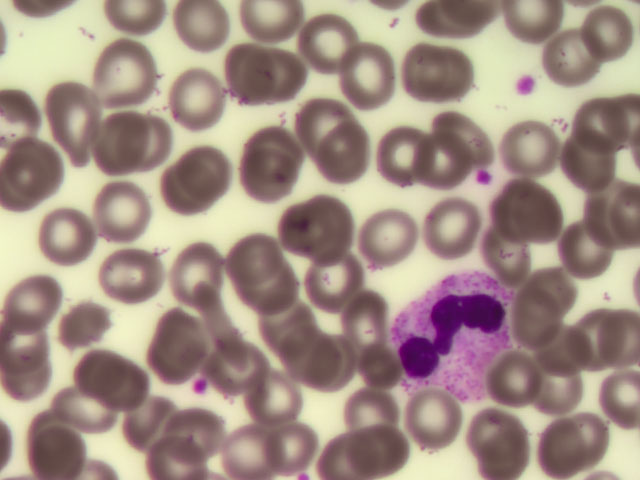Platelets: (515, 71, 535, 101), (191, 378, 210, 399), (476, 169, 493, 185)
RBC: (44, 81, 107, 157), (89, 34, 152, 110), (169, 63, 232, 139), (90, 108, 153, 184), (129, 108, 192, 184), (87, 171, 150, 247), (41, 200, 104, 276), (97, 235, 160, 311), (44, 284, 107, 360), (5, 260, 68, 336), (1, 318, 64, 394), (63, 340, 129, 401), (108, 361, 174, 422), (51, 382, 117, 443), (28, 419, 94, 480), (119, 389, 185, 450), (164, 400, 230, 461), (141, 419, 207, 480), (216, 419, 282, 480), (256, 415, 322, 476), (245, 362, 311, 423), (216, 338, 282, 399), (144, 308, 210, 369), (164, 240, 230, 301), (223, 238, 289, 299), (238, 254, 304, 315), (255, 295, 321, 356), (280, 318, 346, 379), (329, 281, 395, 342), (299, 244, 365, 305), (288, 198, 354, 259), (150, 167, 216, 228), (168, 143, 234, 204), (232, 151, 298, 212), (254, 114, 320, 175), (301, 92, 367, 153), (326, 134, 392, 195), (212, 41, 278, 102), (245, 45, 311, 106), (176, 1, 242, 62), (287, 15, 353, 76), (341, 49, 407, 110), (371, 37, 437, 98), (433, 48, 499, 109), (442, 99, 508, 160), (419, 133, 485, 194), (375, 124, 441, 185), (357, 210, 423, 271), (426, 206, 492, 267), (472, 219, 538, 280), (491, 177, 557, 238), (500, 114, 566, 175), (555, 129, 621, 190), (566, 93, 632, 154), (574, 184, 640, 245), (549, 223, 615, 284), (528, 257, 594, 318), (507, 294, 573, 355), (532, 315, 598, 376), (488, 350, 554, 411), (515, 353, 581, 414), (538, 419, 604, 480), (478, 419, 544, 480), (397, 389, 463, 450), (354, 379, 420, 440), (351, 377, 417, 438), (329, 419, 395, 480), (1, 126, 66, 187)
WBC: (397, 273, 511, 384)
